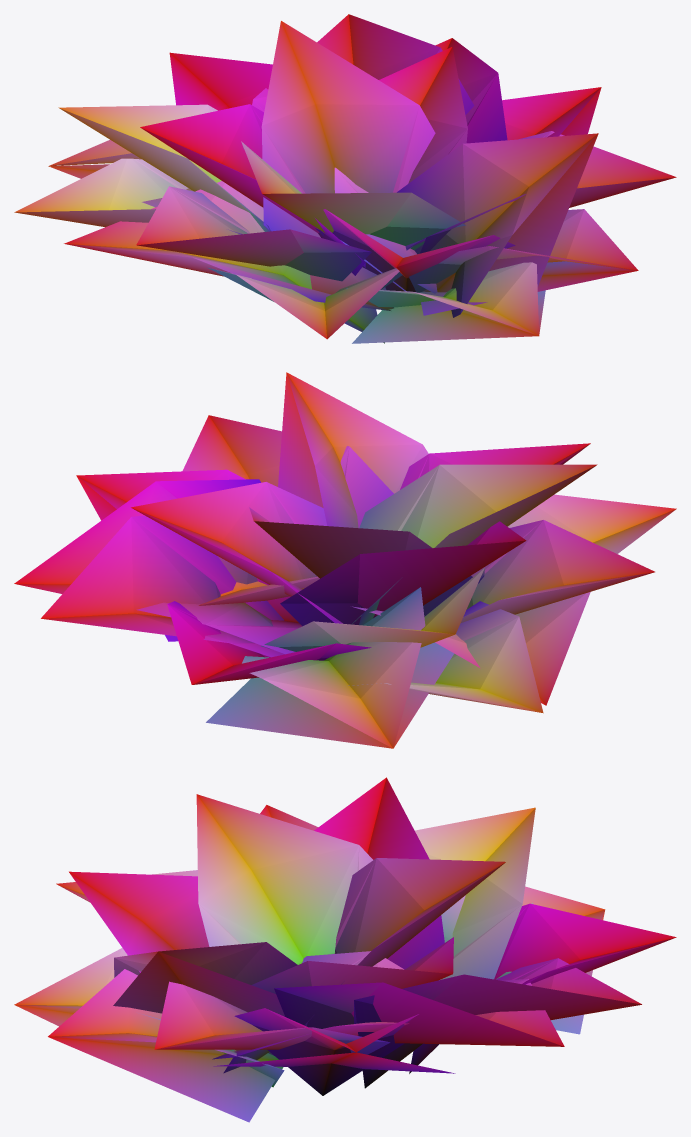
The model's file is broadfern_bunch_c.dae.
3 renders of one model, top to bottom at view 1: azimuth 30°, elevation 25°; view 2: azimuth 150°, elevation 25°; view 3: azimuth 270°, elevation 25°, orthographic. The views are drawn at different scales.
Visible parts, largest first — view 1: broadfern64, broadfern8; view 2: broadfern64, broadfern8; view 3: broadfern64, broadfern8.
Boxes of the visible parts, left/top/right/bottom form: broadfern64: left=15, top=14, right=676, bottom=343; broadfern8: left=14, top=48, right=675, bottom=343; broadfern64: left=14, top=372, right=676, bottom=748; broadfern8: left=76, top=372, right=653, bottom=748; broadfern64: left=14, top=777, right=676, bottom=1095; broadfern8: left=15, top=845, right=675, bottom=1122.
Size of the model in its own units: 2.75 by 3.06 by 1.08.
